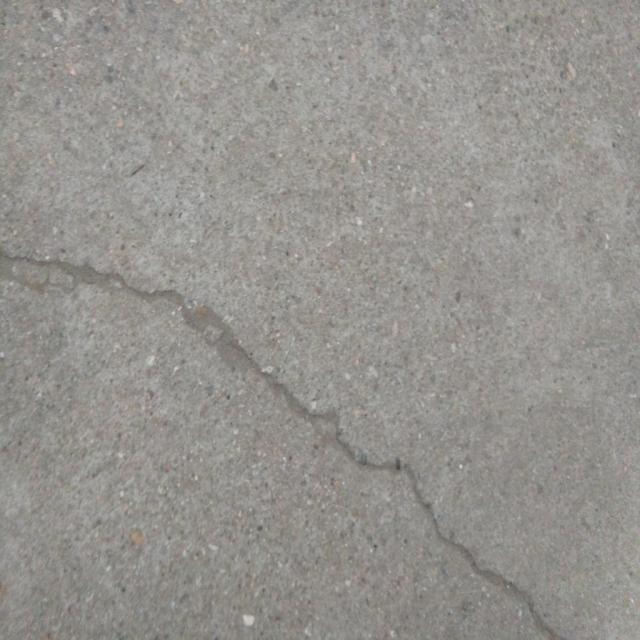cracks: (14, 225, 602, 640)
